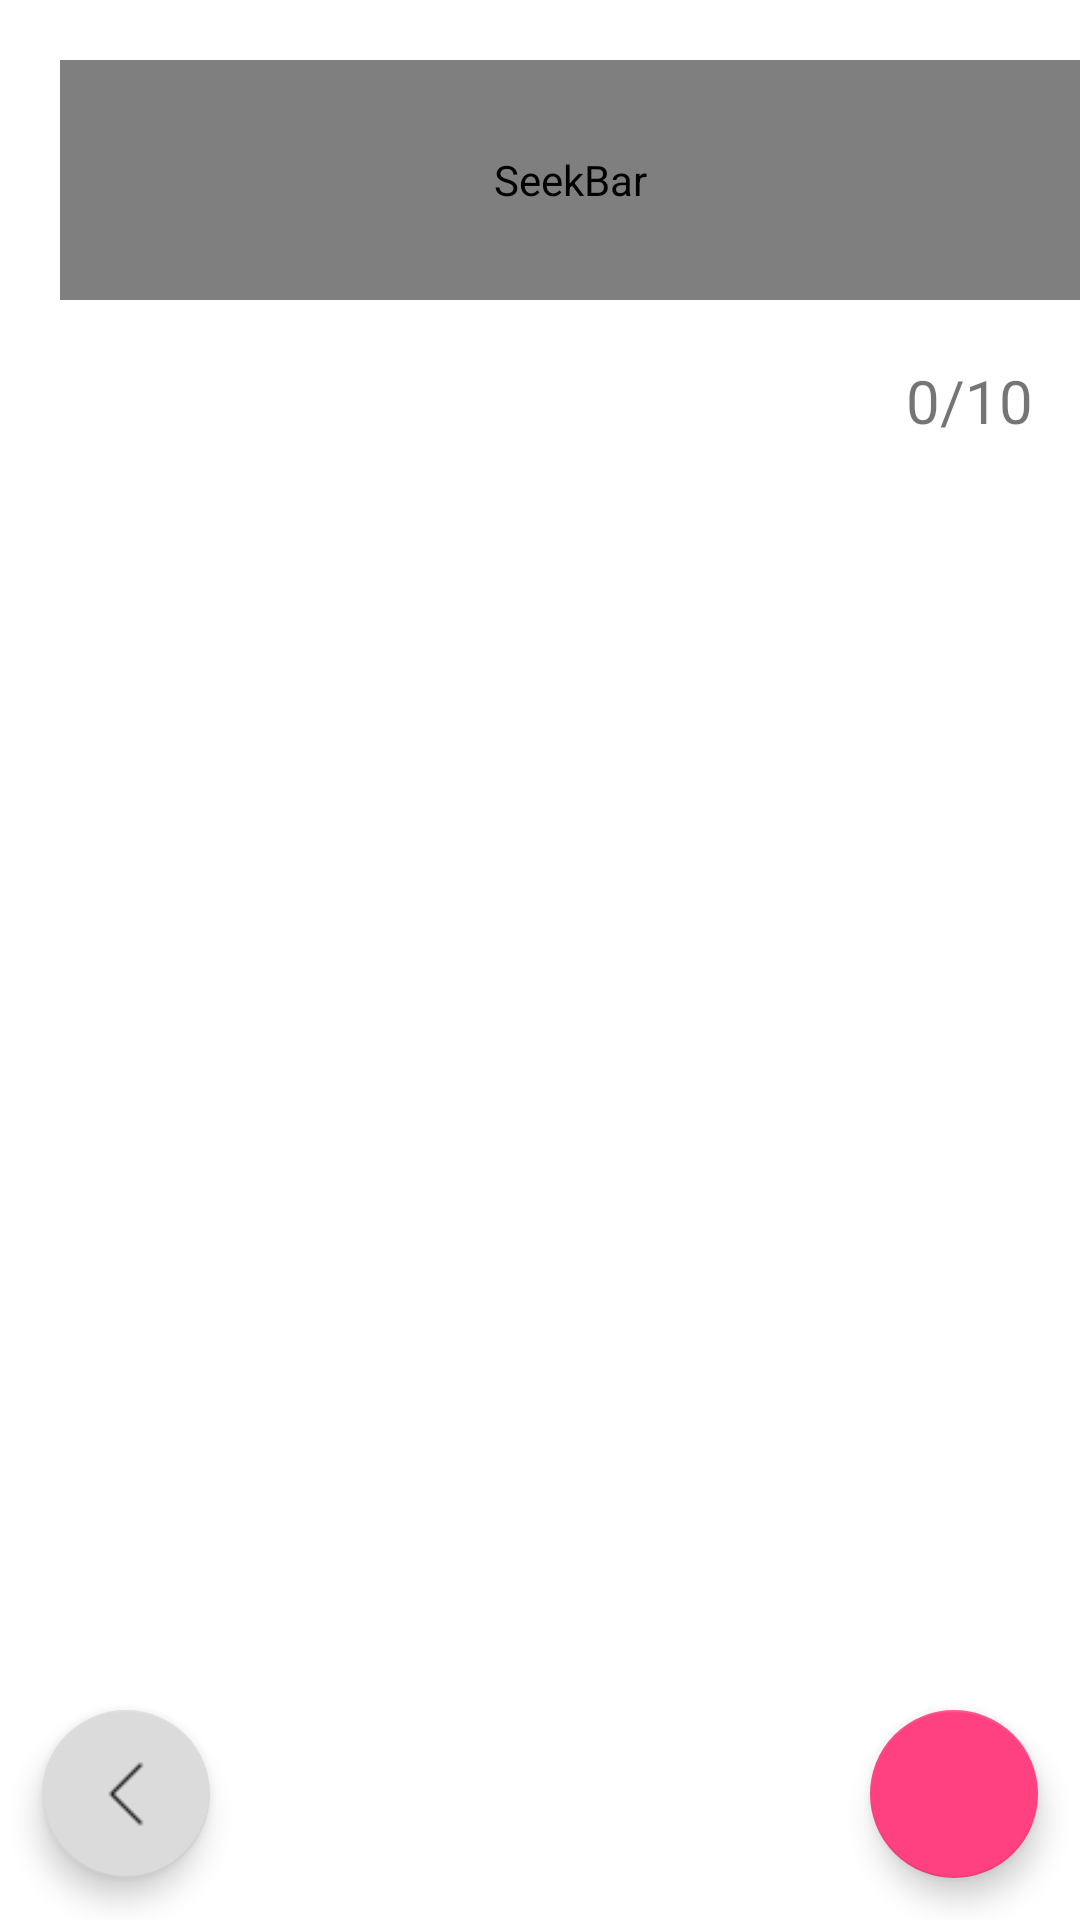

Named icons in this screenshot (1080px×1920px) and their centers, [x,y]:
back: [126,1794]
